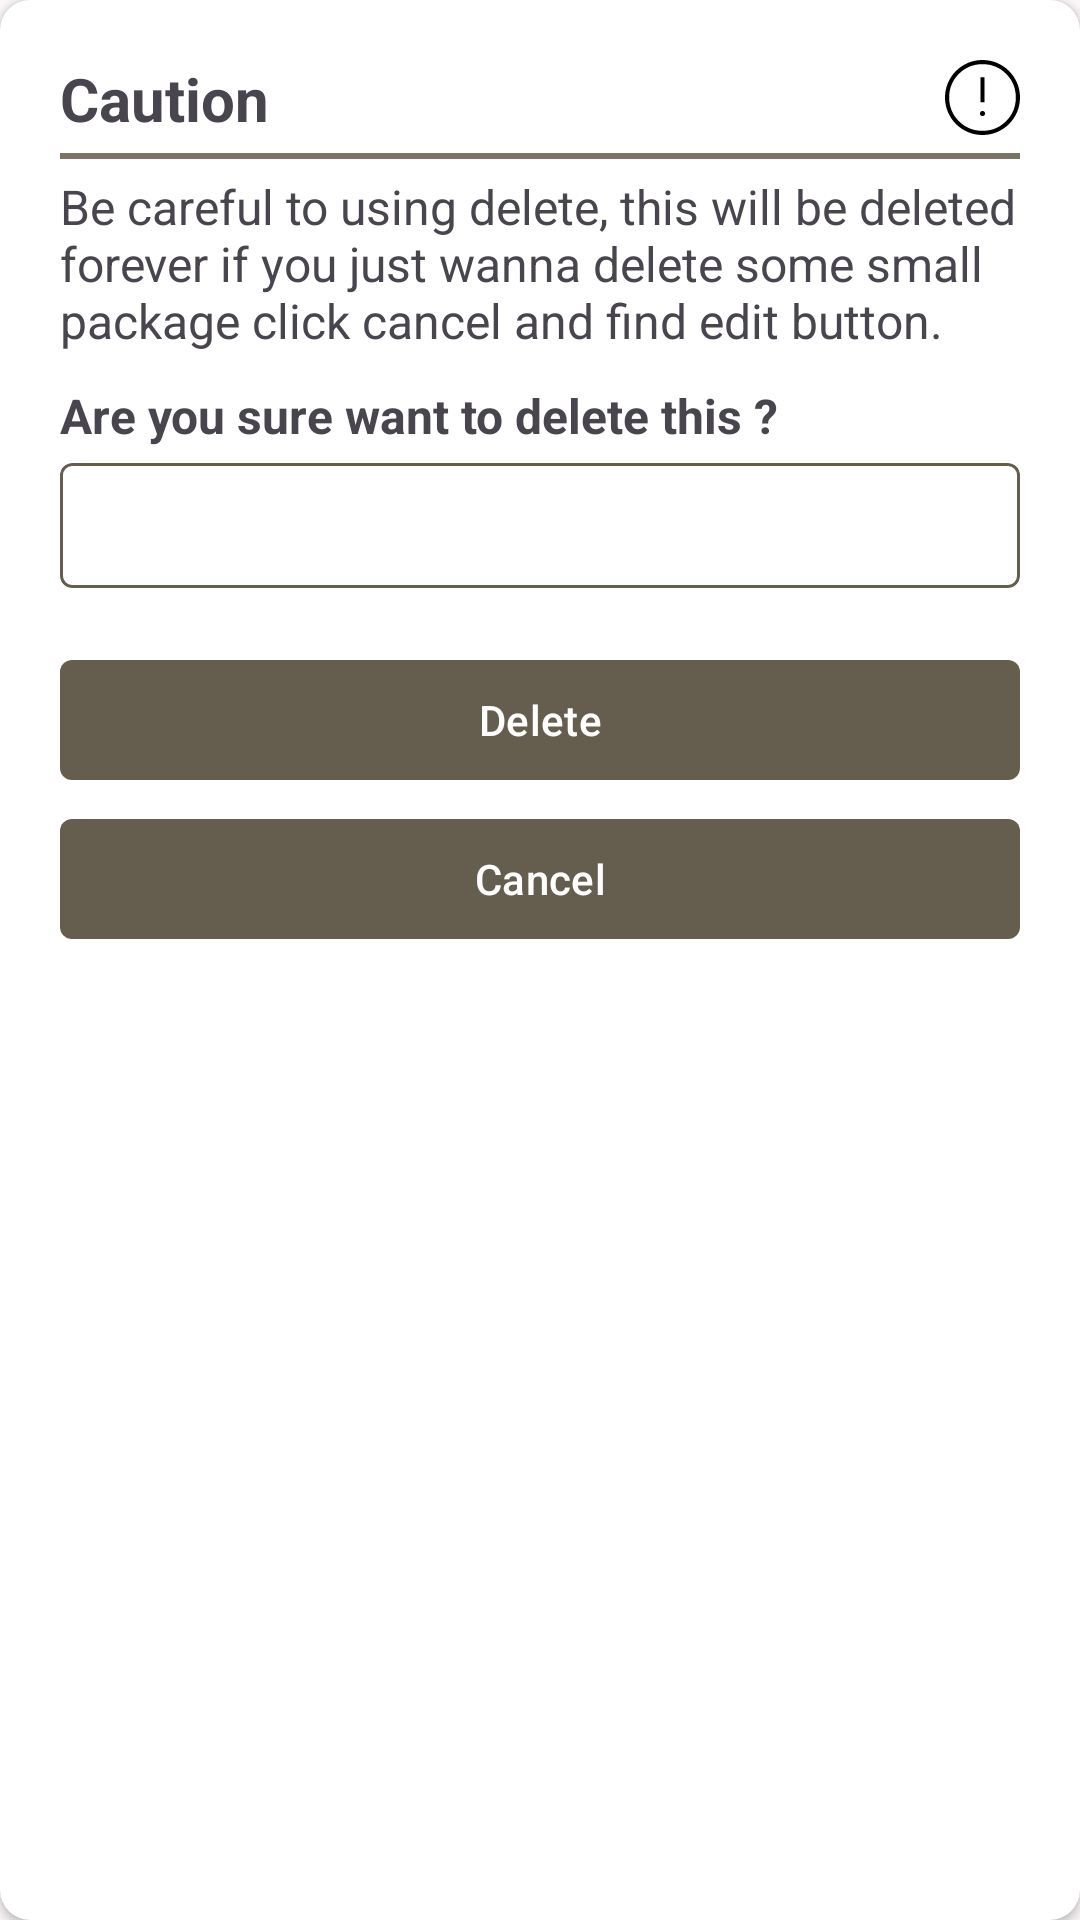

Icon bounding boxes for this 1080 × 1920 phone screenshot, format box(x1, y1, x2, y2):
caution: box(945, 60, 1020, 135)
